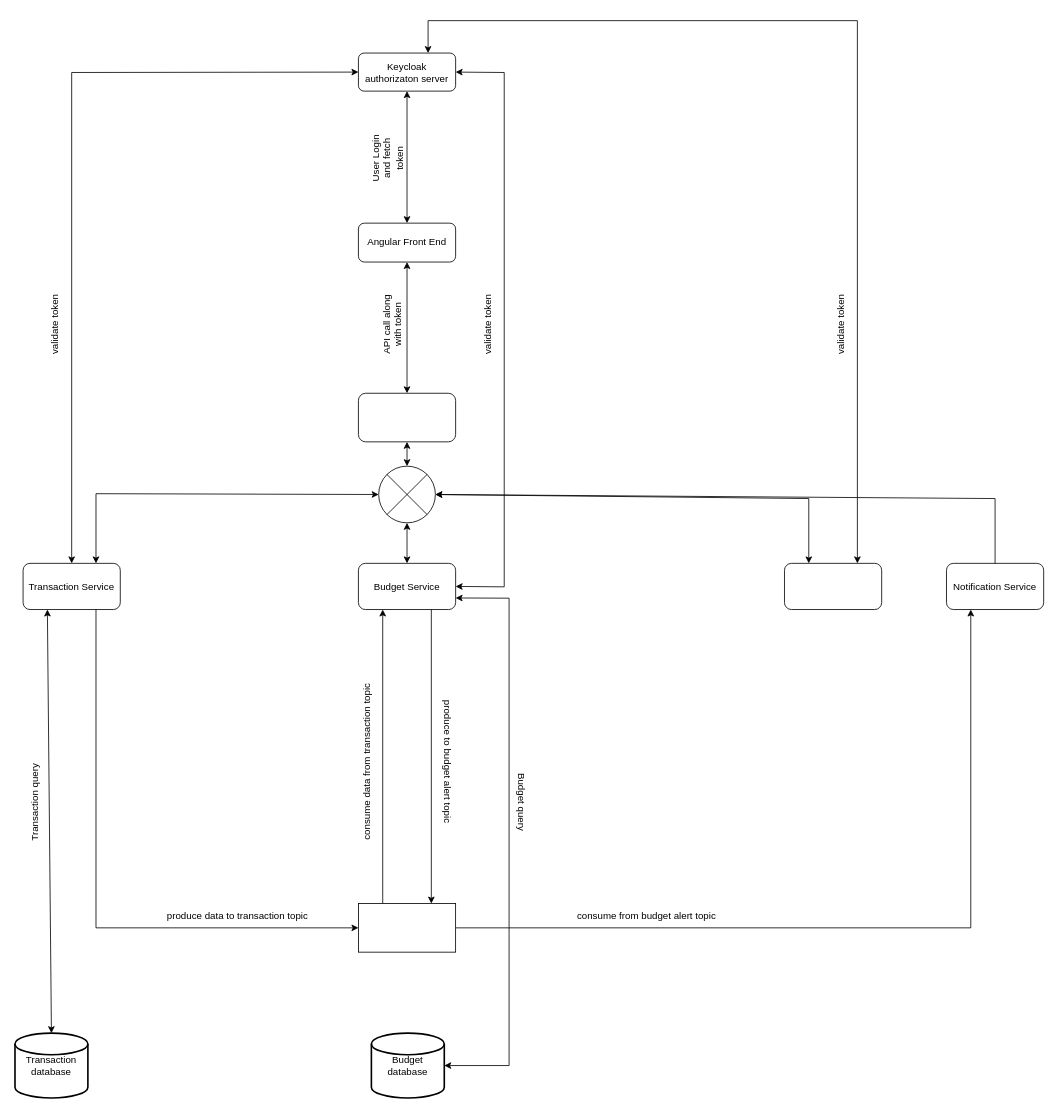
The diagram is 1058 pixels wide and 1113 high, and some of its shapes have lost their labels. Here are the shapes that lost their labels. From the top down, the box of each, then its label:
(358, 392, 456, 442): API Gateway
(784, 563, 882, 610): Analytics Service
(358, 903, 456, 952): Kafka MQ
